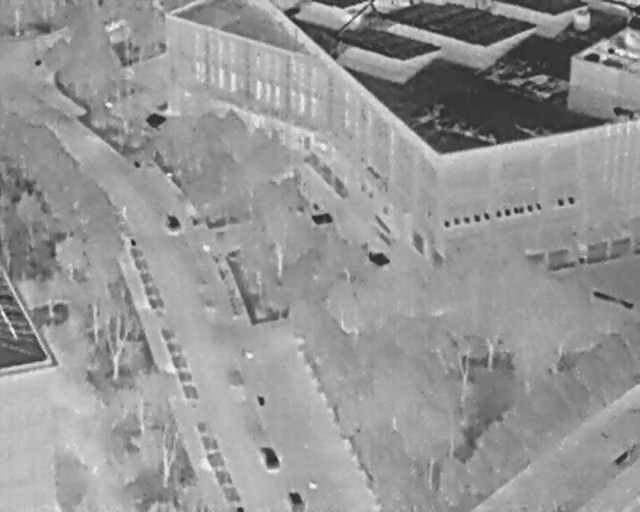Car: (259, 443, 281, 471), (288, 489, 306, 512), (164, 212, 182, 232)
